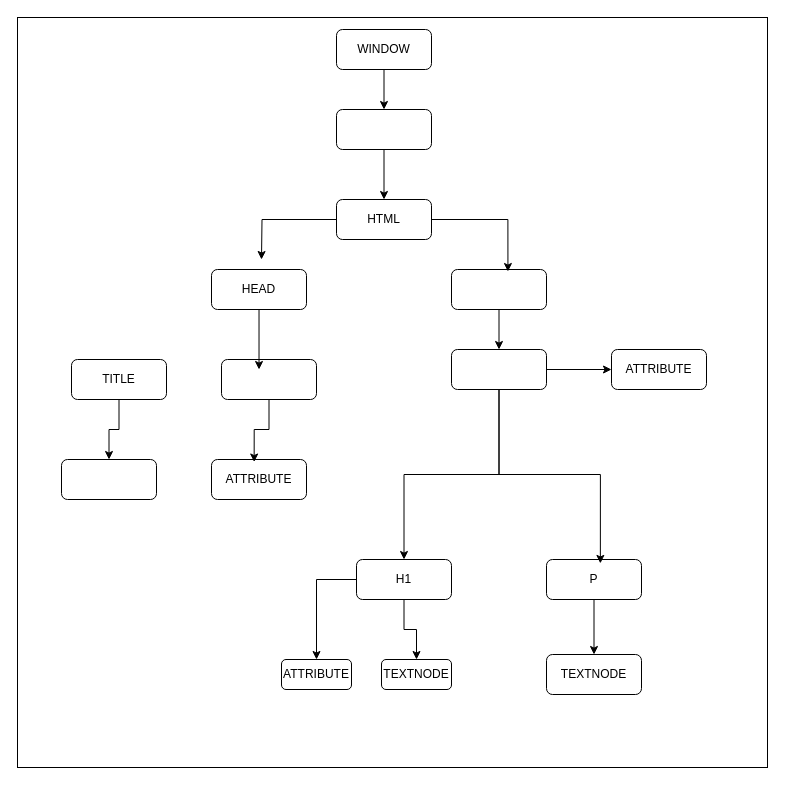
This 785x785 diagram has some shape labels left out. Here are the shapes that lost their labels. From the top down, the centre of each, then its label:
At (x=384, y=129): "DOCUMENT".
At (x=498, y=289): "BODY".
At (x=268, y=379): "META".
At (x=498, y=369): "DIV".
At (x=108, y=479): "TEXT NODE".
